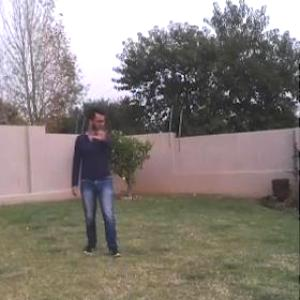follow_hand: (93, 121, 113, 143)
